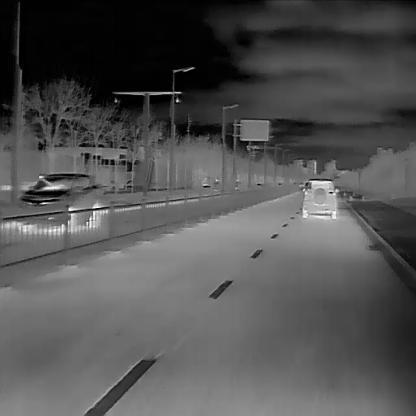car: (19, 172, 90, 206), (301, 177, 338, 219)
